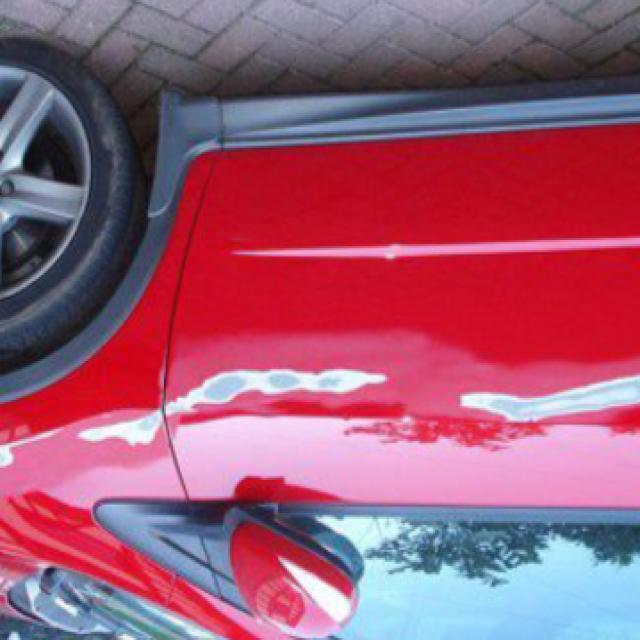scratch: (76, 355, 392, 468), (458, 369, 640, 431), (0, 416, 62, 477)
